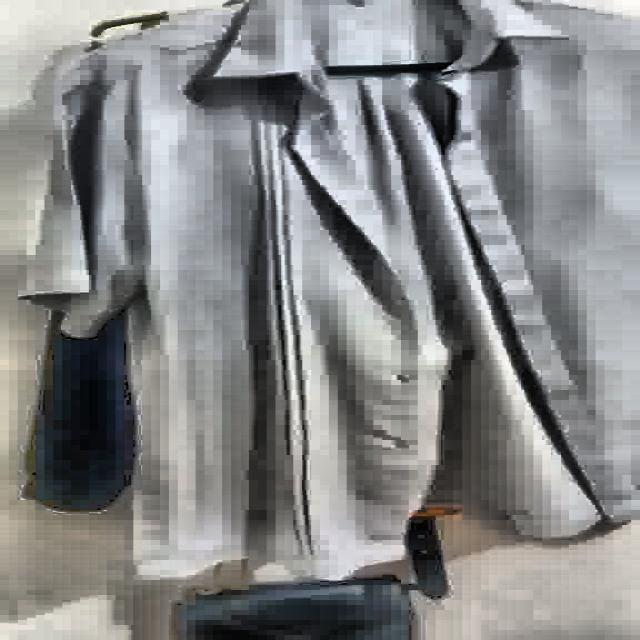clothes: (11, 0, 640, 588)
